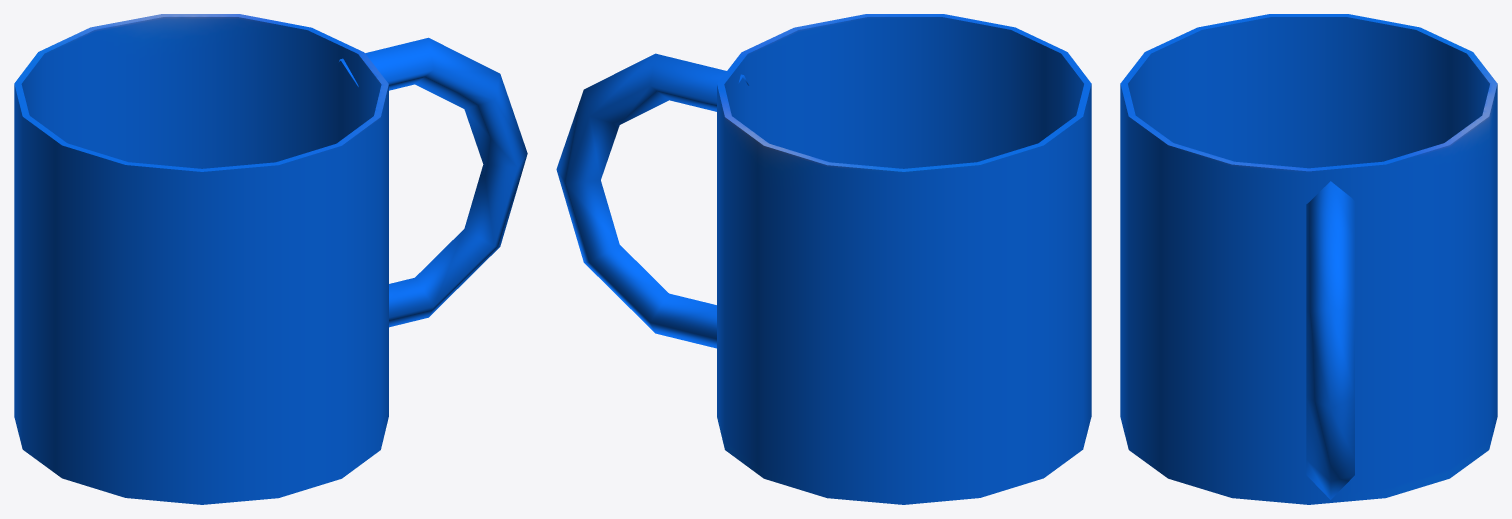
File: cup_blue.fbx
3 views of the same model, side by side, from view 1: azimuth 30°, elevation 25°; view 2: azimuth 150°, elevation 25°; view 3: azimuth 270°, elevation 25° (orthographic).
Visible parts, largest first — view 1: pCylinder6; view 2: pCylinder6; view 3: pCylinder6.
Part boxes in pixels (<box>): pCylinder6: <box>14,14,527,504</box>; pCylinder6: <box>556,14,1091,504</box>; pCylinder6: <box>1120,14,1497,504</box>.
Size of the model in its own units: 28.03 by 17.97 by 18.41.
